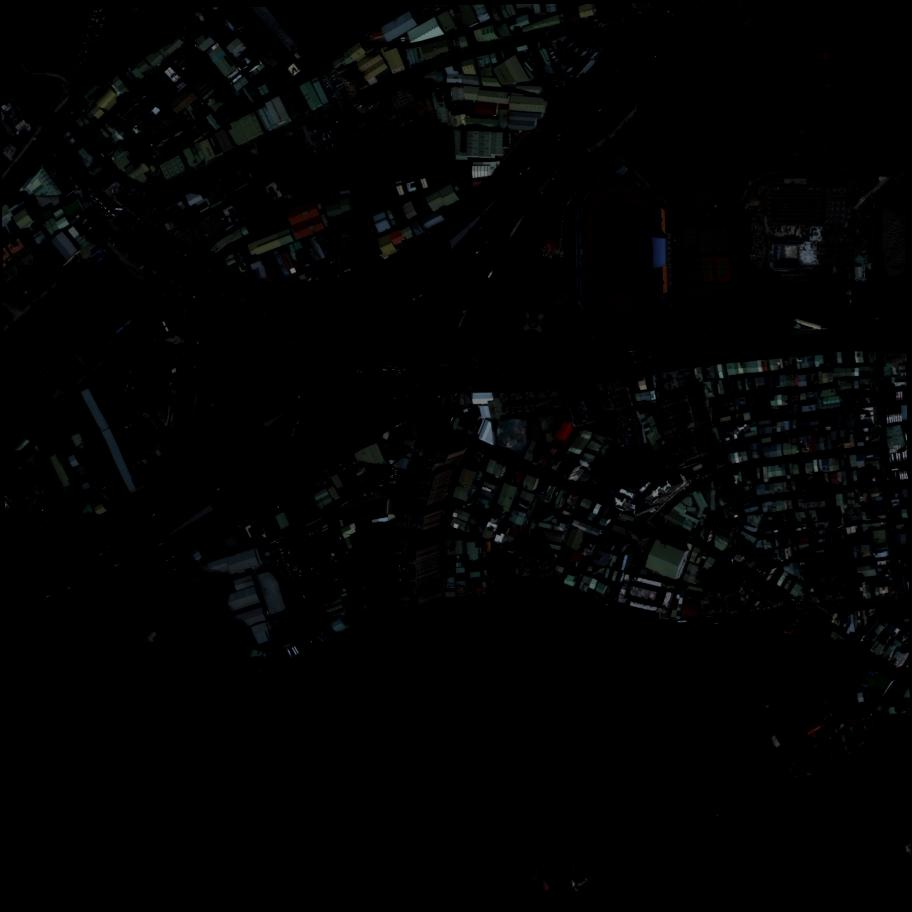storage-tank: (34, 250, 60, 277), (17, 266, 42, 293), (3, 283, 20, 302)
